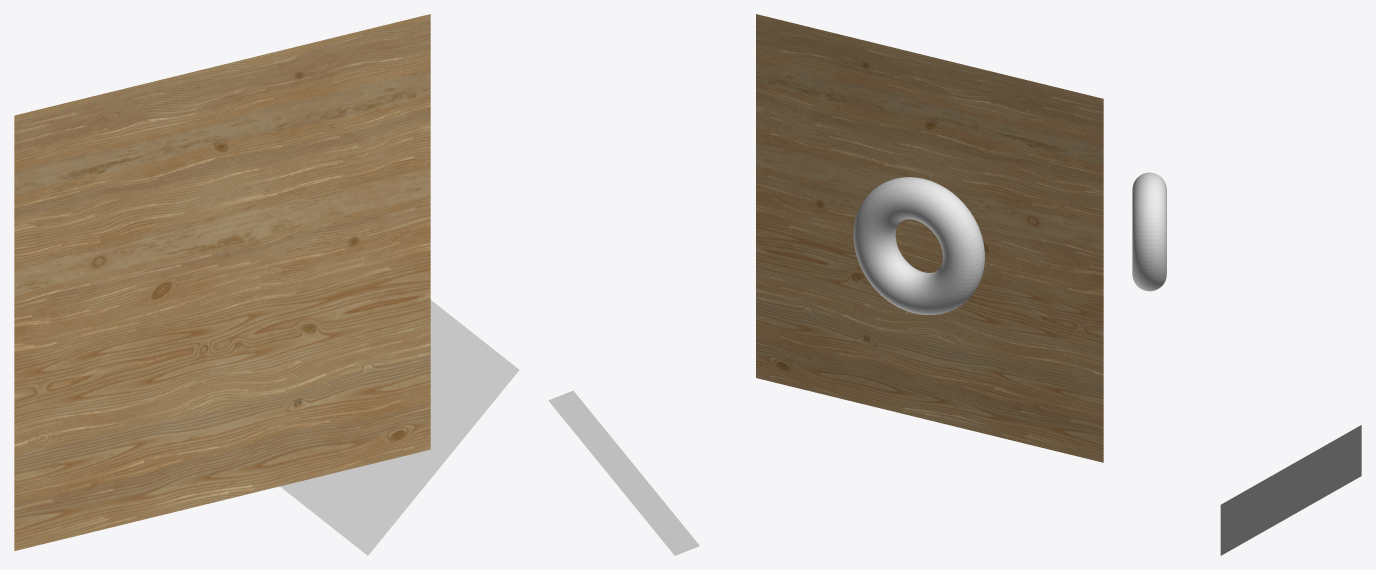
The model's file is plan_torus_tex.fbx.
3 renders of one model, left to right at view 1: azimuth 30°, elevation 25°; view 2: azimuth 150°, elevation 25°; view 3: azimuth 270°, elevation 25°, orthographic. The views are drawn at different scales.
Parts seen in each view (by area): view 1: plan, Plane.001; view 2: plan, Torus, Plane.001; view 3: Plane.001, Torus.
Boxes of the visible parts, x1,y1,x2,y2 form: plan: (14,14,430,550); Plane.001: (280,300,519,555); plan: (756,14,1103,462); Torus: (853,177,984,314); Plane.001: (548,390,699,555); Plane.001: (1220,425,1361,555); Torus: (1132,172,1166,291).
Size of the model in its own units: 274 by 271 by 140.
Materials: 3 (1 with a texture image).
